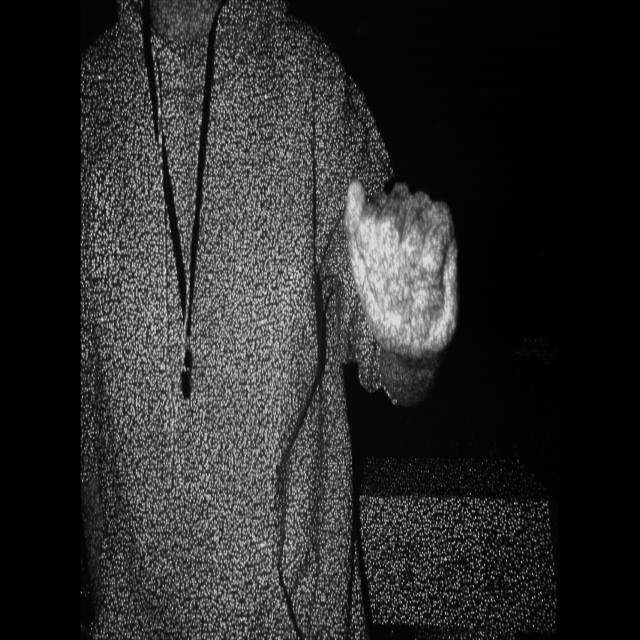A: (336, 170, 470, 372)
